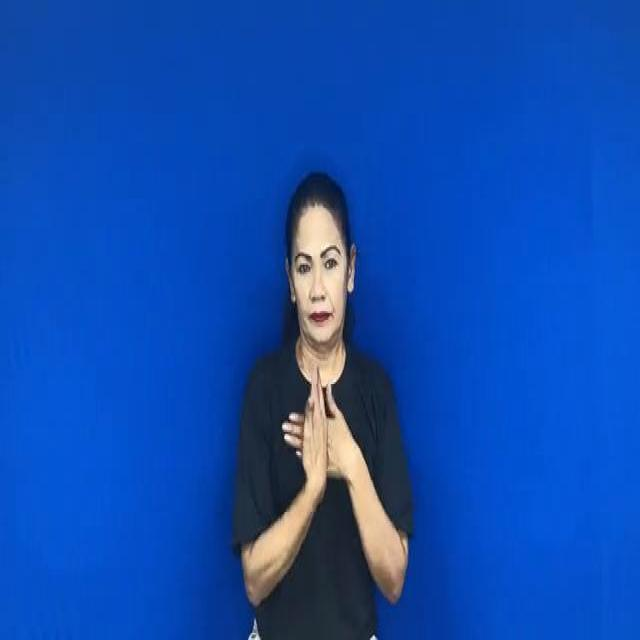bread: (287, 374, 359, 507)
